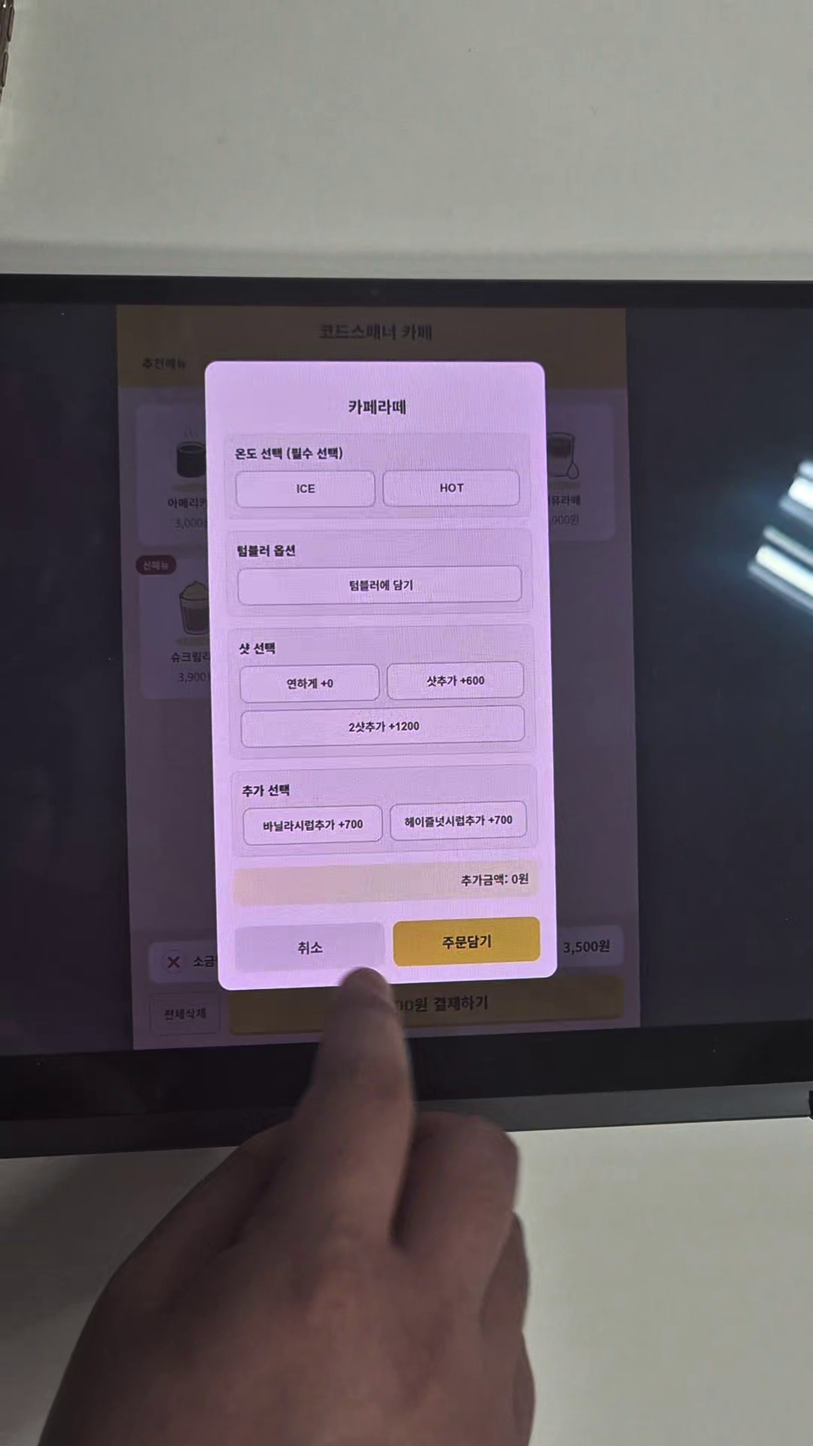action_button: (394, 917, 540, 965), (238, 924, 385, 970)
menu_name: (348, 398, 408, 415)
option_button: (241, 706, 524, 744), (239, 567, 521, 604), (245, 805, 380, 843), (392, 801, 525, 839), (236, 471, 374, 507), (384, 471, 519, 506), (242, 665, 378, 699), (389, 664, 522, 696)
popup_modal: (206, 360, 556, 991)
